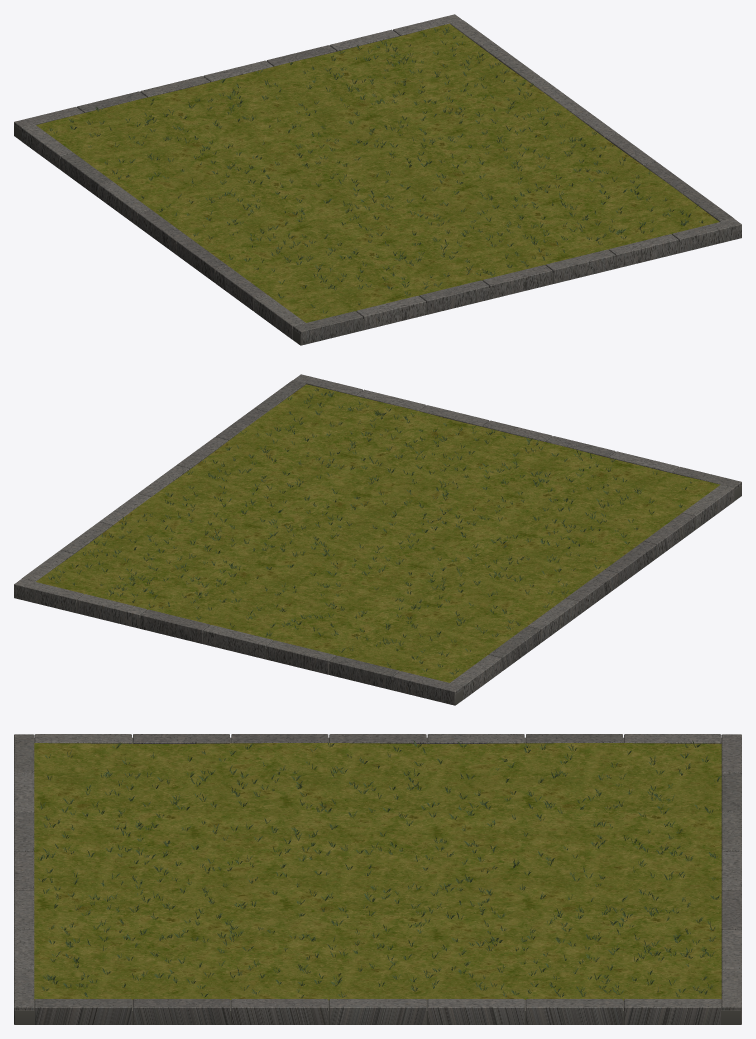
The model's file is floor-grass-large.glb.
The picture shows the model from 3 angles, top to bottom: view 1: azimuth 30°, elevation 25°; view 2: azimuth 150°, elevation 25°; view 3: azimuth 270°, elevation 25°; orthographic projection. The views are drawn at different scales.
Parts seen in each view (by area): view 1: Turf_surface, Perimeter_granite, Trimmed_blades; view 2: Turf_surface, Perimeter_granite, Trimmed_blades; view 3: Turf_surface, Perimeter_granite, Trimmed_blades, Compacted_base_and_visible_joints.
Boxes of the visible parts, <box> form: Turf_surface: <box>36,23,719,322</box>; Perimeter_granite: <box>14,14,741,345</box>; Trimmed_blades: <box>49,27,703,313</box>; Turf_surface: <box>36,384,720,682</box>; Perimeter_granite: <box>14,374,741,705</box>; Trimmed_blades: <box>48,387,691,675</box>; Turf_surface: <box>34,743,721,1000</box>; Perimeter_granite: <box>14,734,741,1024</box>; Trimmed_blades: <box>38,740,720,998</box>; Compacted_base_and_visible_joints: <box>14,737,741,1024</box>.
Size of the model in its own units: 3.2 by 0.1254 by 3.6.
4 materials, 2 textured.
